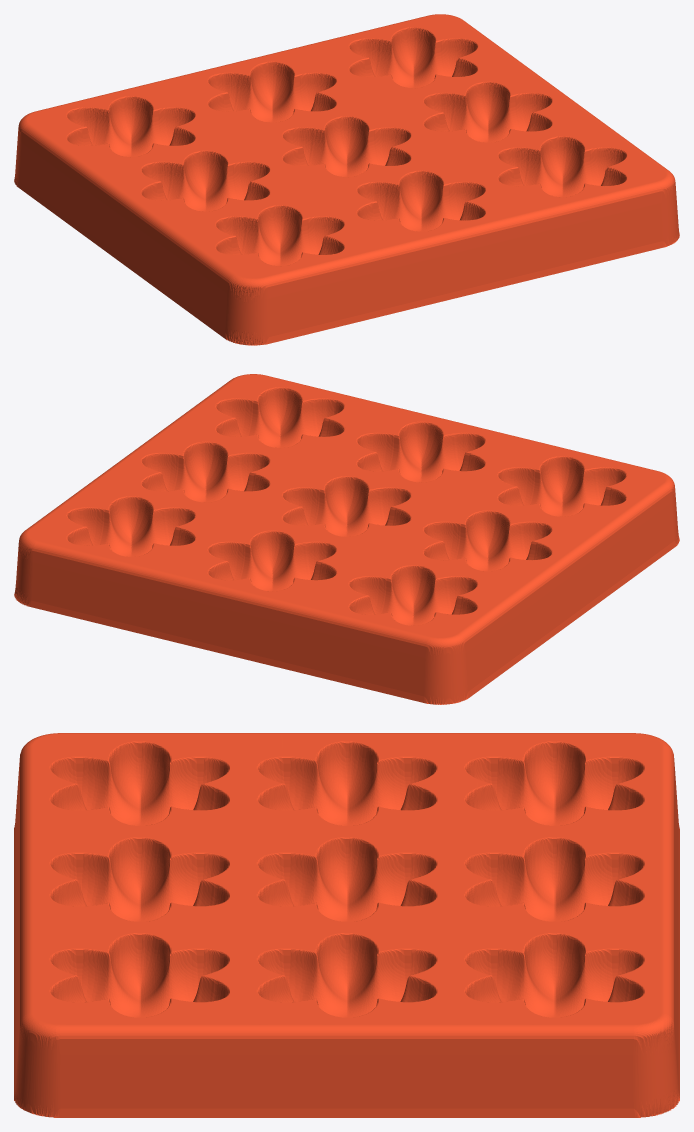
Rendered from mold.glb.
3 views of the same model, one above another, from view 1: azimuth 30°, elevation 25°; view 2: azimuth 150°, elevation 25°; view 3: azimuth 270°, elevation 25° (orthographic). The views are drawn at different scales.
Visible parts, largest first — view 1: geometry_0; view 2: geometry_0; view 3: geometry_0.
Boxes of the visible parts, x1,y1,x2,y2 form: geometry_0: (14, 14, 679, 345); geometry_0: (14, 374, 679, 704); geometry_0: (14, 733, 679, 1117).
Bounding box in the file's own units: 0.1402 × 0.0182 × 0.1288.
